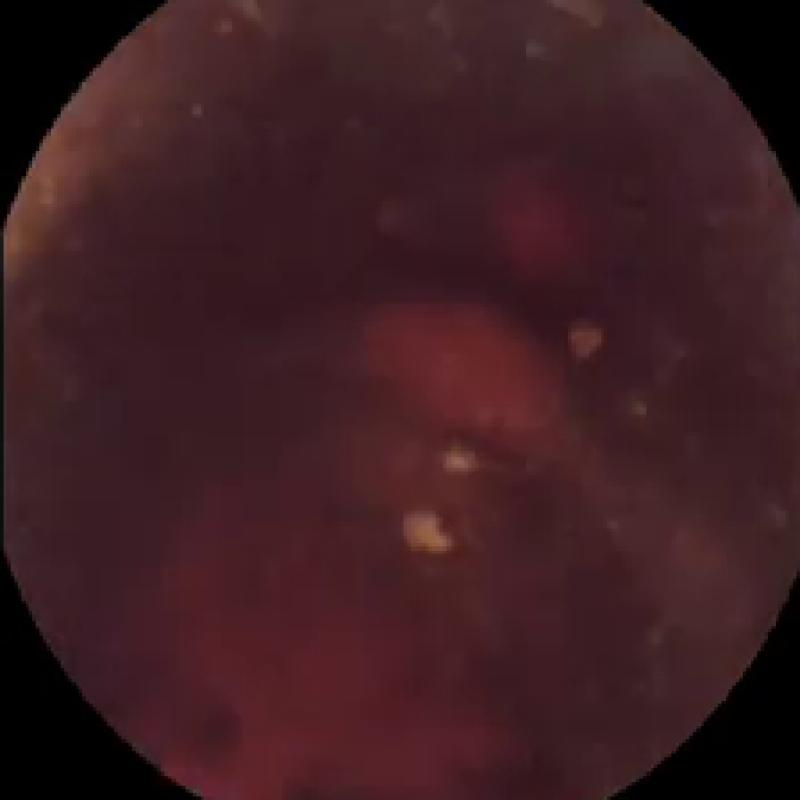bleeding: (171, 522, 505, 793), (371, 292, 556, 456), (493, 178, 571, 278)
